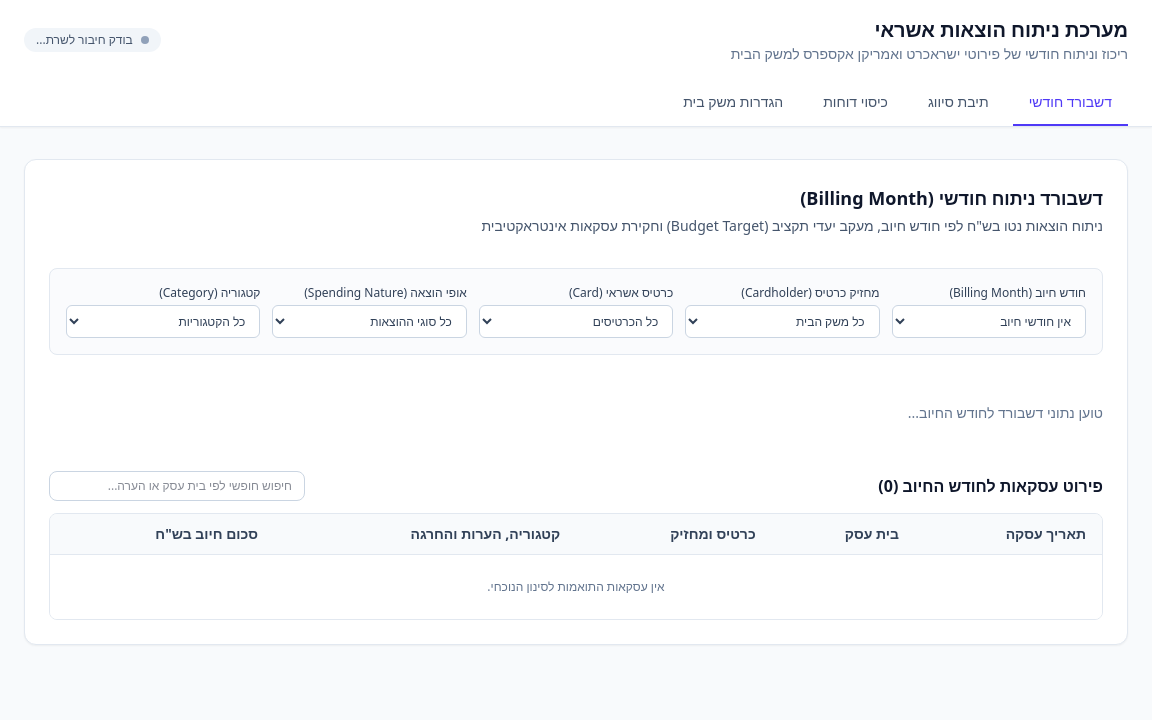
Test case: Hebrew RTL Application Shell › switches the active workflow section when a navigation tab is clicked
Click the button "תיבת סיווג". click: (958, 103)
box: [912, 80, 1005, 126]
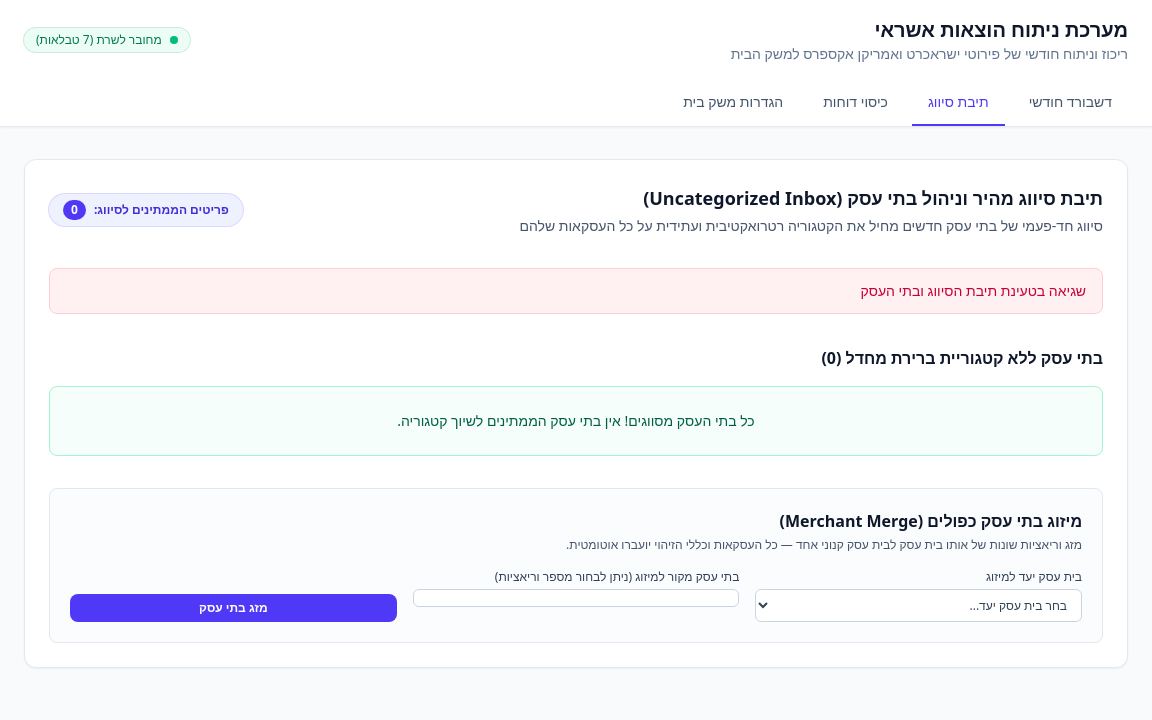
Now the heading "תיבת סיווג מהיר וניהול בתי עסק (Uncategorized Inbox)" is shown, box [643, 186, 1103, 210]
